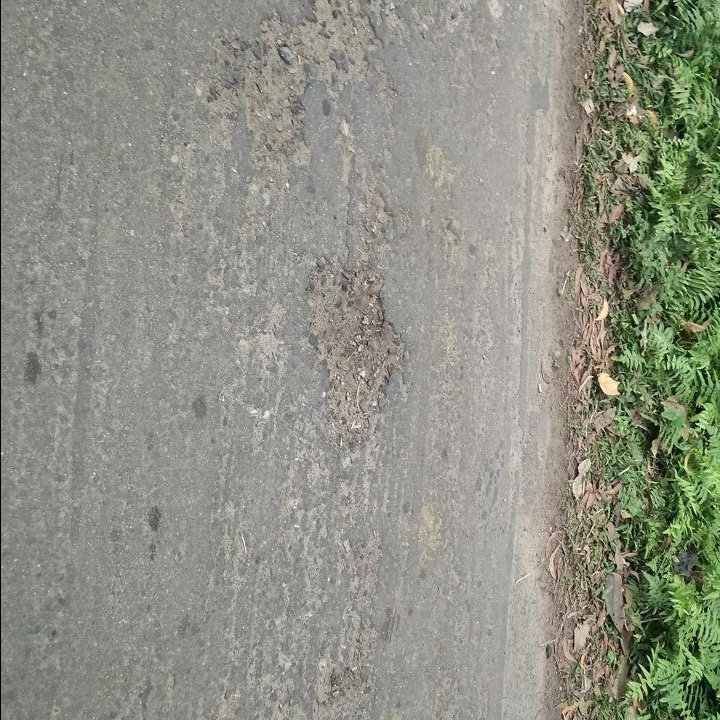pothole: (303, 259, 406, 452), (230, 11, 310, 163), (313, 0, 379, 76)
